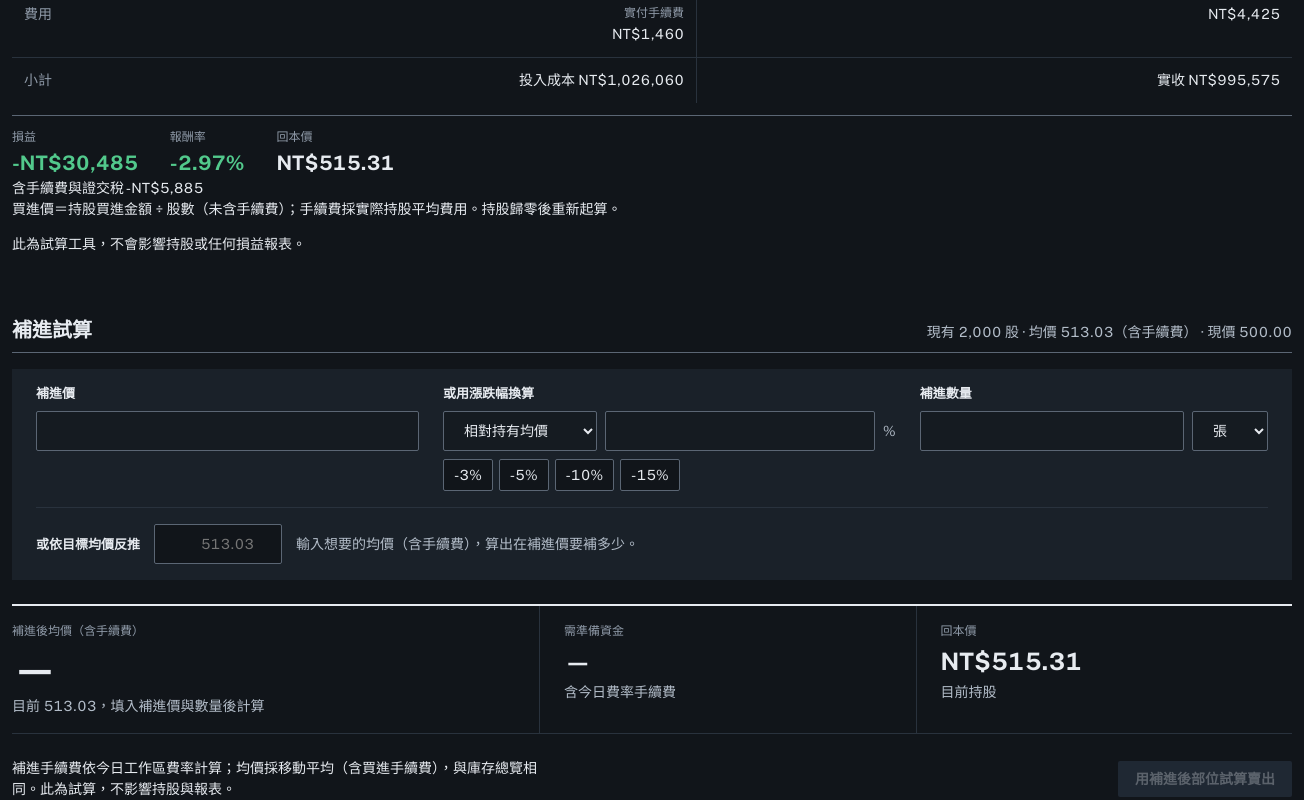
Test: WhatIfTab 賣出試算＋補進試算（Task 197） › 直接輸入補進價時，漲跌幅跟著換算
(page scrolled)
Type "475" into the number field labelled "補進價". click: (228, 431)
box: [36,411,419,451]
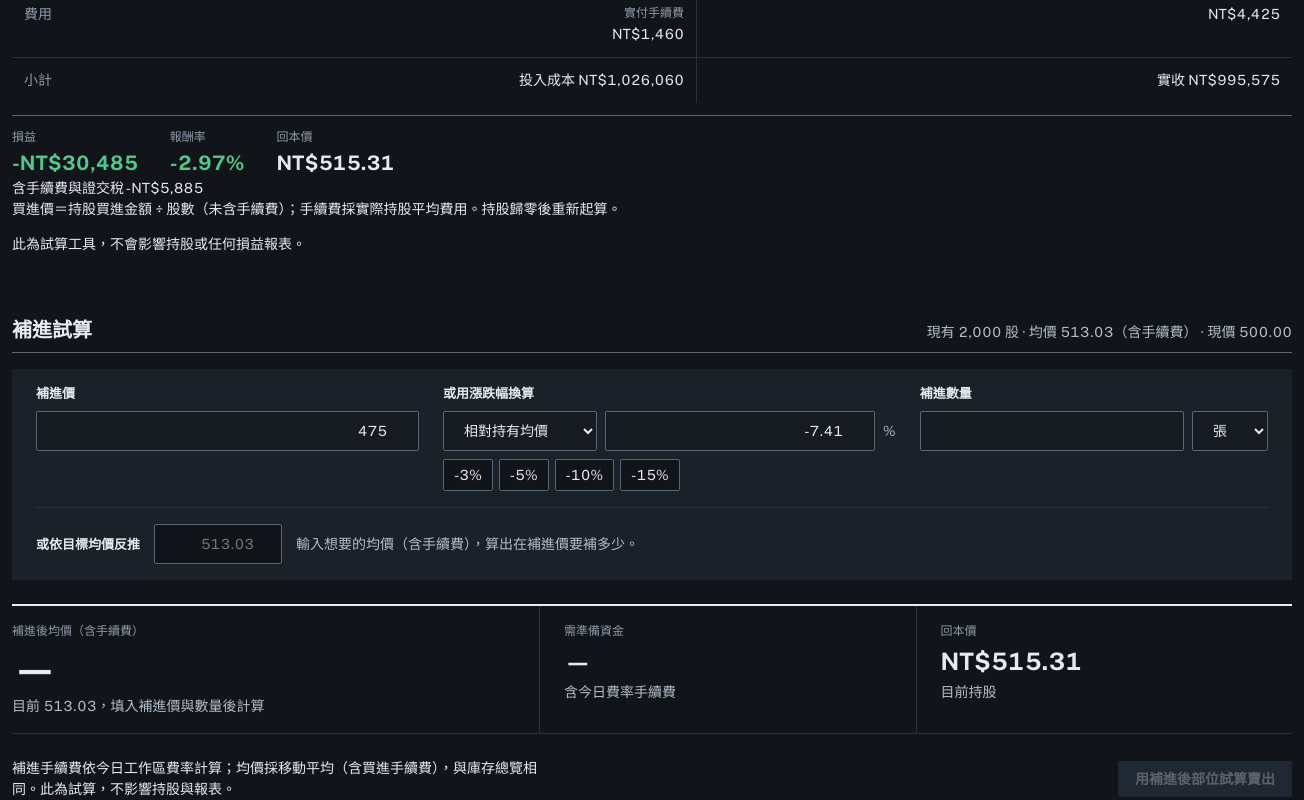
Now the number field labelled "或用漲跌幅換算" holds "-7.41", box [605,411,875,451]
